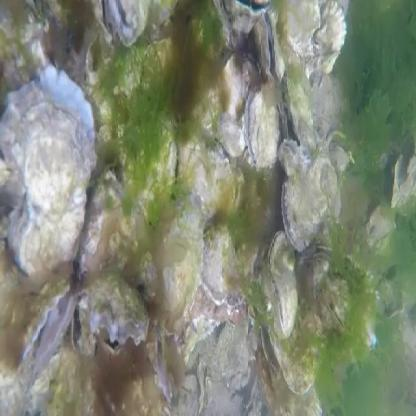Oyster- Indeterminate: (0, 67, 97, 277), (282, 145, 337, 254), (176, 17, 221, 118), (201, 225, 245, 307), (267, 228, 298, 339), (244, 86, 280, 169), (140, 40, 180, 94), (323, 279, 351, 330), (91, 0, 112, 44), (280, 139, 301, 174)
Oyster-Closed: (257, 256, 322, 395), (143, 195, 203, 327), (177, 138, 233, 220), (285, 70, 319, 154), (303, 2, 346, 59), (280, 0, 319, 50)
Oyster-Open: (79, 271, 148, 344), (23, 278, 76, 368), (254, 11, 284, 81), (392, 136, 416, 216), (107, 0, 145, 44), (224, 0, 269, 30), (72, 306, 91, 352)
